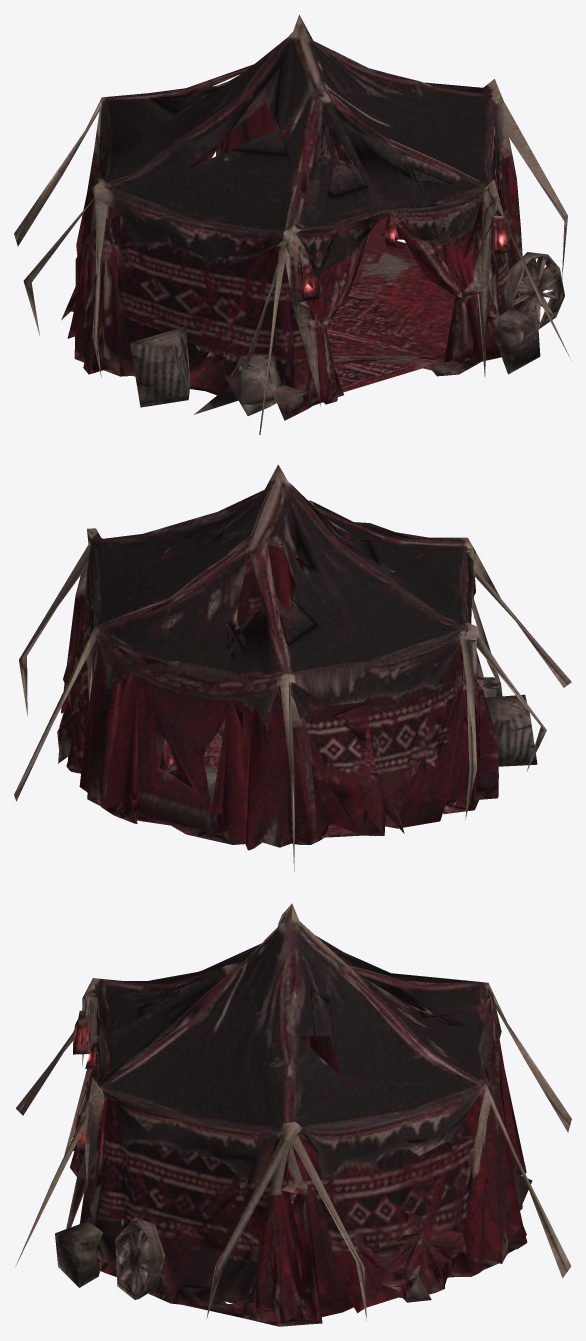
The model's file is tent.glb.
3 renders of one model, top to bottom at view 1: azimuth 30°, elevation 25°; view 2: azimuth 150°, elevation 25°; view 3: azimuth 270°, elevation 25°, orthographic. The views are drawn at different scales.
Parts seen in each view (by area): view 1: frame; view 2: frame; view 3: frame.
Part boxes in pixels (x1,y1,x2,y2): frame: (14, 14, 571, 434); frame: (14, 465, 571, 871); frame: (15, 903, 571, 1326).
Bounding box in the file's own units: 12.2 × 7.64 × 11.87.
Materials: 1 (1 with a texture image).
